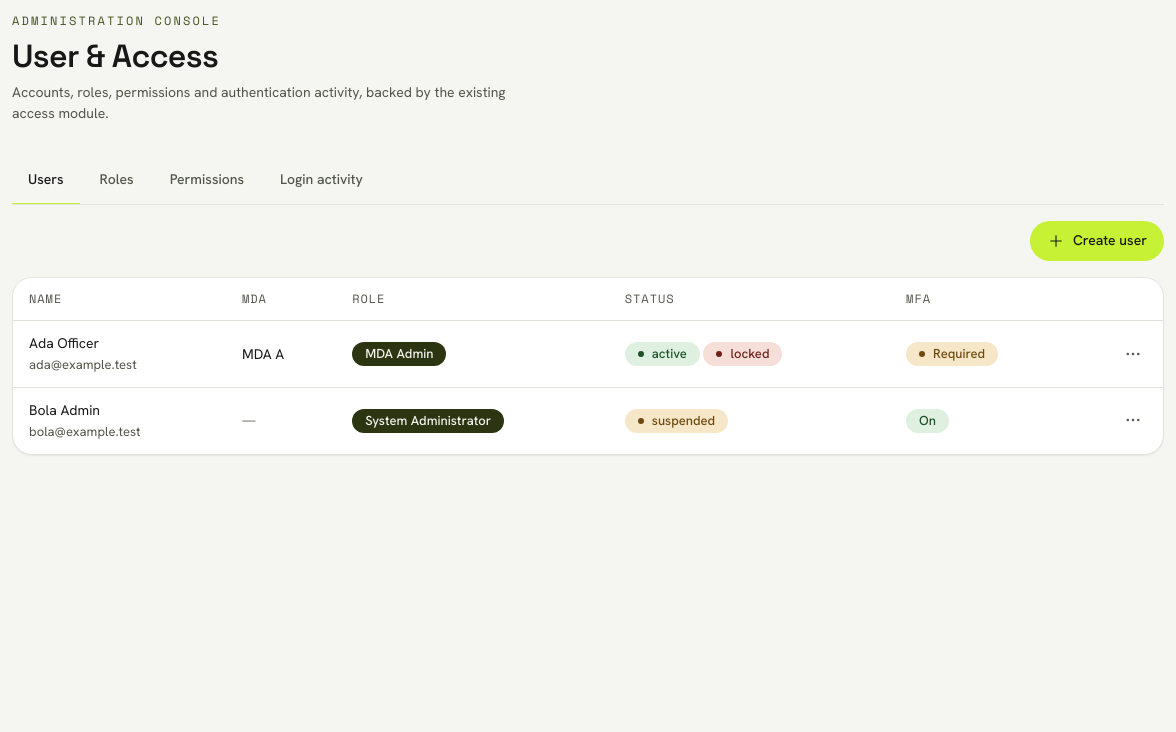
Test case: Admin console — User & Access (composes Phase 1) › shows login activity projected from the audit log
Check: the text "Ada Officer" is shown, box [29,334,99,352]
Click the tab "Login activity": (322,181) [264,157,379,205]
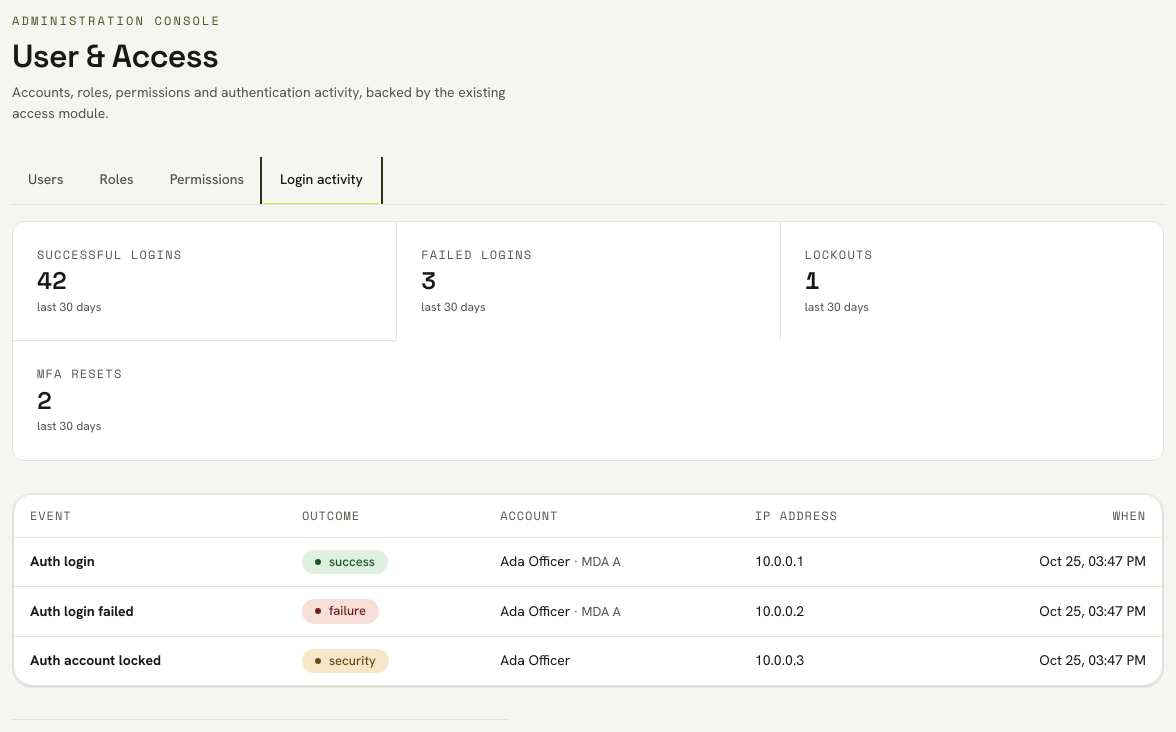
Check: the text "Auth login" is shown, box [30,552,94,570]
Check: the text "Auth login failed" is shown, box [30,602,134,620]
Check: the text "Auth account locked" is shown, box [30,651,161,669]
